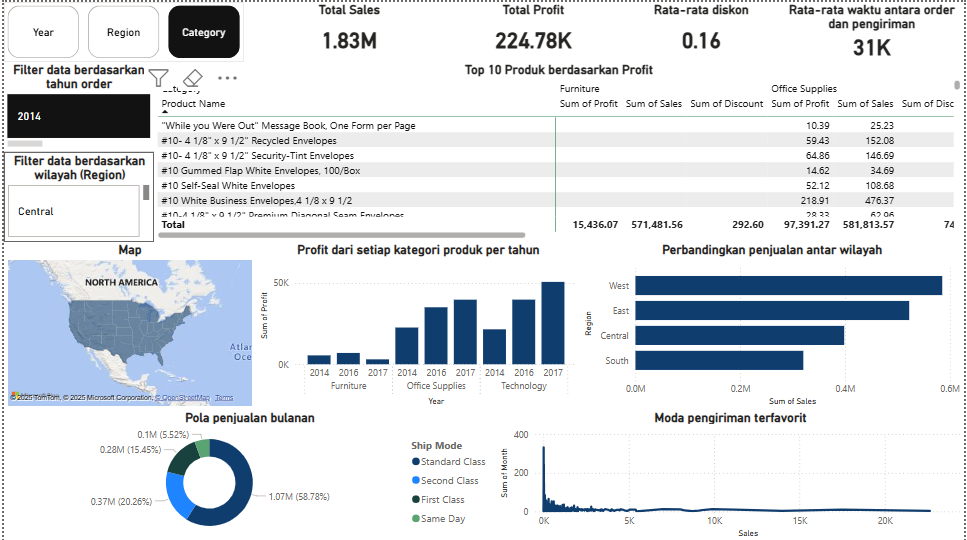

The dashboard page shown, as its layout file describes it:
{"tool":"powerbi","page":{"name":"Page 1","canvas":[1280,720],"ordinal":0},"visuals":[{"type":"card","title":"Total Sales","fields":{"Values":["Sum(Sample - Superstore.Sales)"]},"box":[336,0,247.8,80],"z":0,"group":"g1"},{"type":"card","title":"Total Profit","fields":{"Values":["Sum(Sample - Superstore.Profit)"]},"box":[583.8,0,241.9,80],"z":1000,"group":"g1"},{"type":"card","title":"Rata-rata diskon","fields":{"Values":["Avg(Sample - Superstore.Discount)"]},"box":[825.7,0,206.5,80],"z":2000,"group":"g1"},{"type":"card","title":"Rata-rata waktu antara order dan pengiriman","fields":{"Values":["Sum(Sample - Superstore.Processing Days)"]},"box":[1032.2,0,247.8,80],"z":3000,"group":"g1"},{"type":"advancedSlicerVisual","title":"Filter data berdasarkan tahun order","fields":{"Values":["Sample - Superstore.Order Date.Variation.Date Hierarchy.Year"]},"box":[0,80,200,120],"z":4000},{"type":"advancedSlicerVisual","title":"Filter data berdasarkan wilayah (Region)","fields":{"Values":["Sample - Superstore.Region"]},"box":[0,200,200,120],"z":5000},{"type":"barChart","title":"Perbandingkan penjualan antar wilayah","fields":{"Category":["Sample - Superstore.Region"],"Y":["Sum(Sample - Superstore.Sales)"]},"box":[768,320,512,224],"z":6000},{"type":"columnChart","title":"Profit dari setiap kategori produk per tahun","fields":{"Y":["Sum(Sample - Superstore.Profit)"],"Category":["Sample - Superstore.Category","Sample - Superstore.Year"]},"box":[336,320,432,224],"z":7000},{"type":"lineChart","title":"Moda pengiriman terfavorit","fields":{"Y":["Sum(Sample - Superstore.Month)"],"Category":["Sample - Superstore.Sales"]},"box":[656,544,624,176],"z":8000},{"type":"donutChart","title":"Pola penjualan bulanan","fields":{"Category":["Sample - Superstore.Ship Mode"],"Y":["Sum(Sample - Superstore.Sales)"]},"box":[0,544,656,176],"z":9000},{"type":"filledMap","title":"Map","fields":{"Category":["Sample - Superstore.State"]},"box":[0,320,336,224],"z":10000},{"type":"pivotTable","title":"Top 10 Produk berdasarkan Profit","fields":{"Rows":["Sample - Superstore.Product Name"],"Columns":["Sample - Superstore.Category"],"Values":["Sum(Sample - Superstore.Profit)","Sum(Sample - Superstore.Sales)","Sum(Sample - Superstore.Discount)"]},"box":[200,80,1080,240],"z":11000},{"type":"advancedSlicerVisual","fields":{"Values":["FILTER.FILTER"]},"box":[0,0,320,80],"z":12000},{"type":"group","id":"g1","title":"Group 1","box":[336,0,944,80],"z":12001}]}

Visuals, with their boxes in screenshot pixels (x1, y1, x2, y2), scaled from the page's 1280x720 canvas onto the 967x540 screenshot:
"Total Sales" card: Rect(254, 0, 441, 60)
"Total Profit" card: Rect(441, 0, 624, 60)
"Rata-rata diskon" card: Rect(624, 0, 780, 60)
"Rata-rata waktu antara order dan pengiriman" card: Rect(780, 0, 966, 60)
"Filter data berdasarkan tahun order" advancedSlicerVisual: Rect(0, 60, 151, 150)
"Filter data berdasarkan wilayah (Region)" advancedSlicerVisual: Rect(0, 150, 151, 240)
"Perbandingkan penjualan antar wilayah" barChart: Rect(580, 240, 966, 408)
"Profit dari setiap kategori produk per tahun" columnChart: Rect(254, 240, 580, 408)
"Moda pengiriman terfavorit" lineChart: Rect(496, 408, 966, 539)
"Pola penjualan bulanan" donutChart: Rect(0, 408, 496, 539)
"Map" filledMap: Rect(0, 240, 254, 408)
"Top 10 Produk berdasarkan Profit" pivotTable: Rect(151, 60, 966, 240)
advancedSlicerVisual - FILTER.FILTER: Rect(0, 0, 242, 60)
"Group 1" group: Rect(254, 0, 966, 60)
